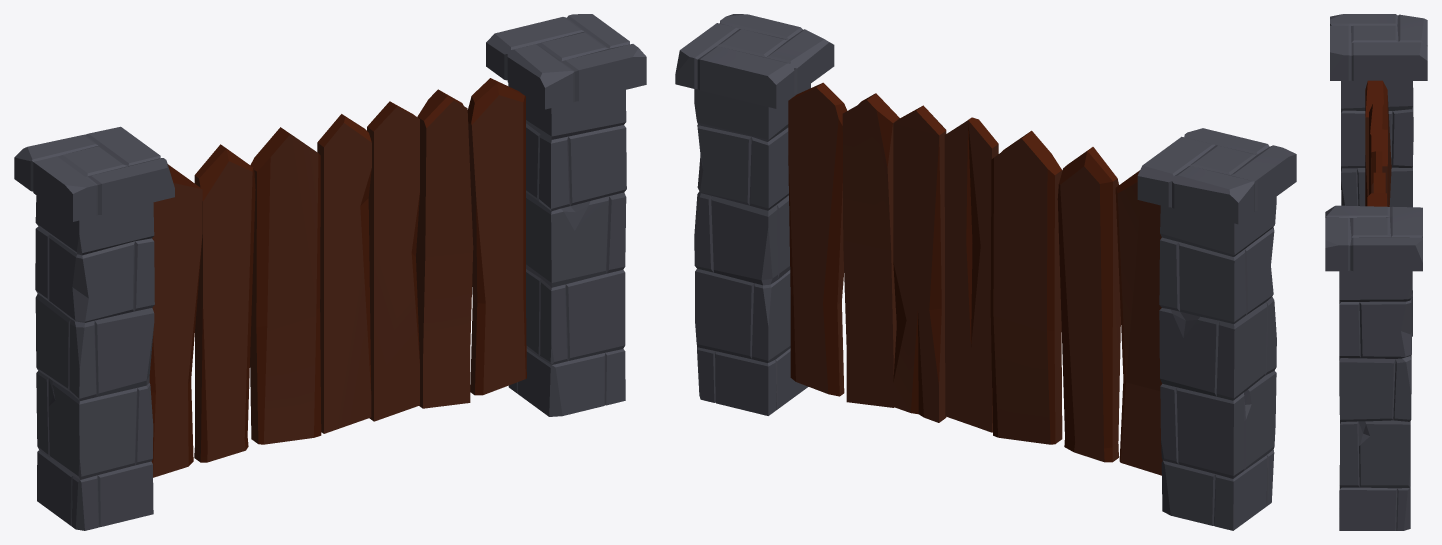
File: Fence_6.fbx
3 renders of one model, left to right at view 1: azimuth 30°, elevation 25°; view 2: azimuth 150°, elevation 25°; view 3: azimuth 270°, elevation 25°, orthographic. The views are drawn at different scales.
Visible parts, largest first — view 1: Fence_6; view 2: Fence_6; view 3: Fence_6.
Boxes of the visible parts, left/top/right/bottom form: Fence_6: left=14, top=14, right=646, bottom=530; Fence_6: left=675, top=14, right=1296, bottom=530; Fence_6: left=1325, top=14, right=1427, bottom=530.
Bounding box in the file's own units: 59.9 × 35.1 × 11.19.
